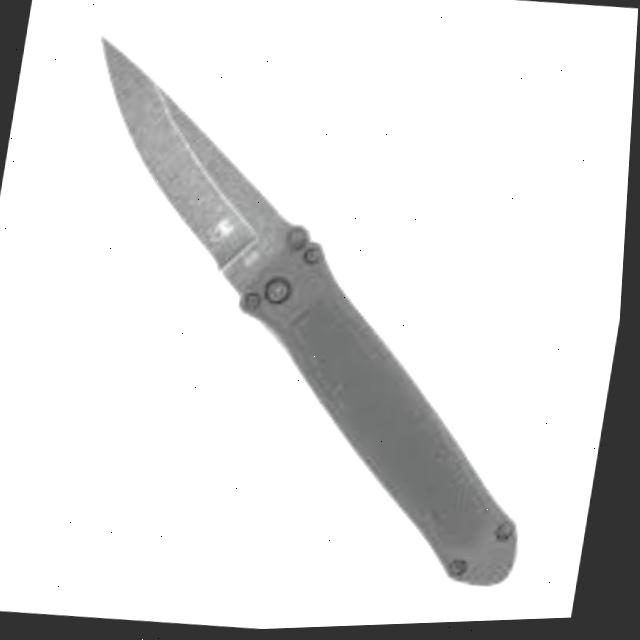Knife: (19, 19, 601, 607)
